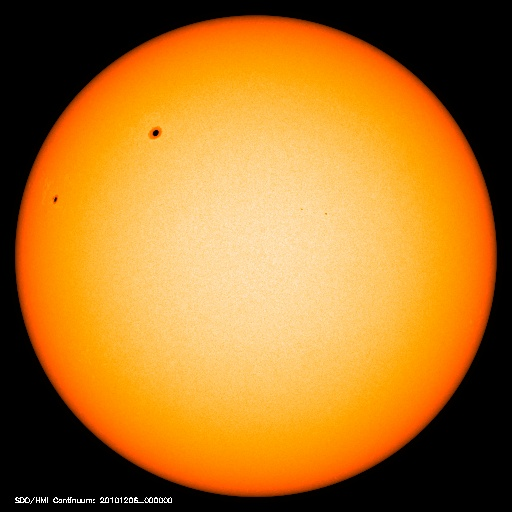sunspot: (136, 117, 174, 147), (292, 200, 333, 221), (42, 186, 68, 211)
